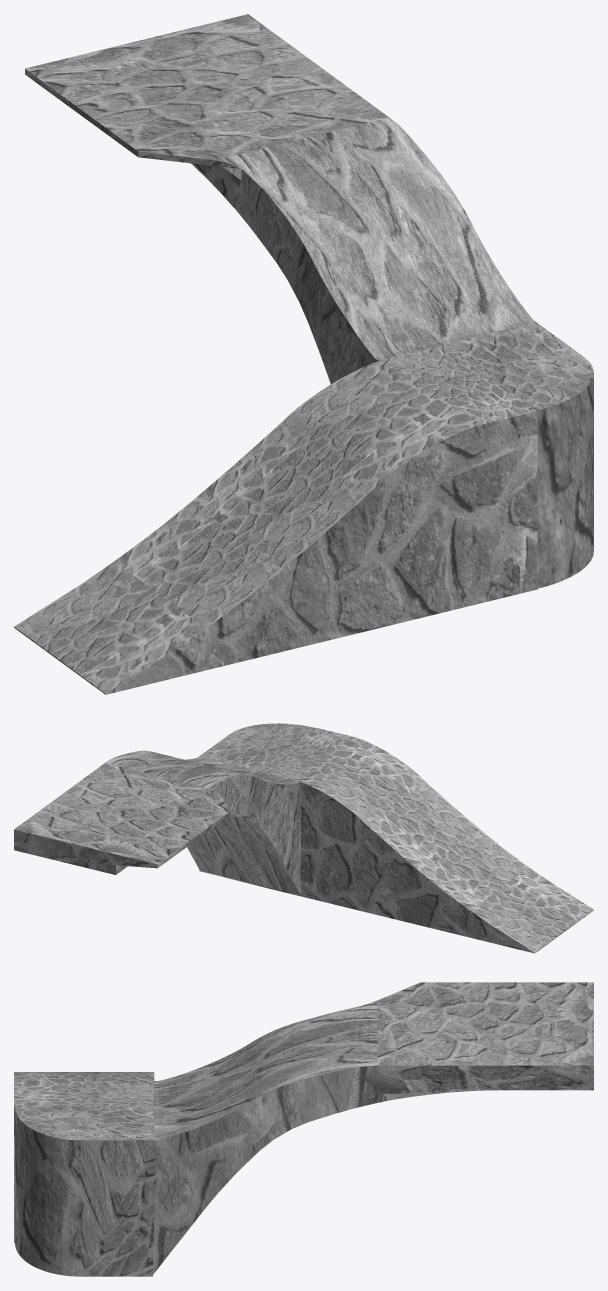
File: TeilAufgangBuhne.fbx
The picture shows the model from 3 angles, top to bottom: view 1: azimuth 30°, elevation 25°; view 2: azimuth 150°, elevation 25°; view 3: azimuth 270°, elevation 25°; orthographic projection. The views are drawn at different scales.
Visible parts, largest first — view 1: Cube.029; view 2: Cube.029; view 3: Cube.029.
Boxes of the visible parts, left/top/right/bottom form: Cube.029: left=14, top=14, right=593, bottom=694; Cube.029: left=14, top=723, right=593, bottom=953; Cube.029: left=14, top=982, right=593, bottom=1276.
Bounding box in the file's own units: 2178 × 1099 × 2740.
